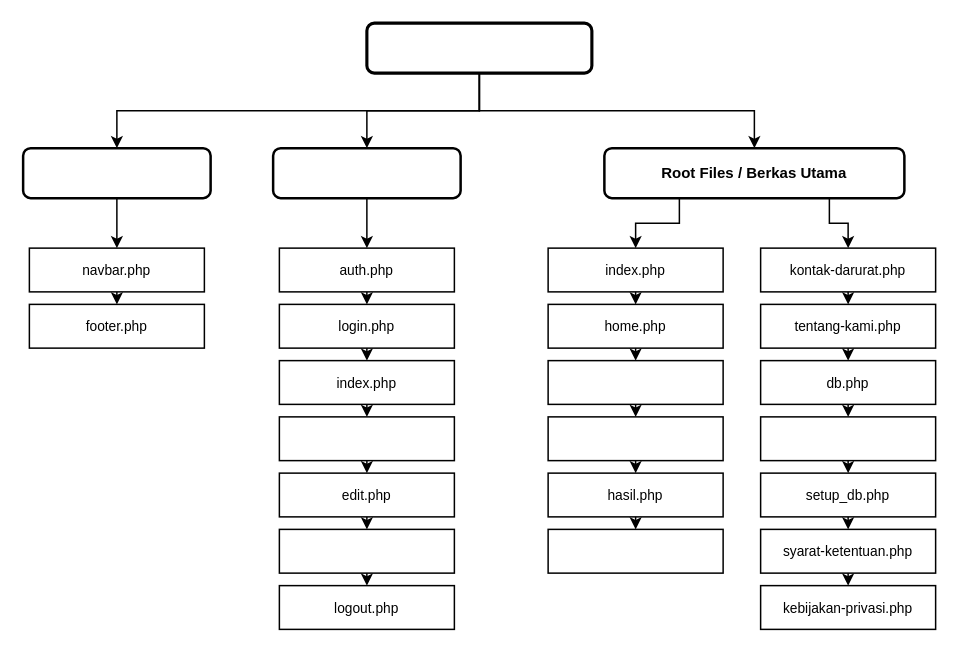
The diagram is 958 pixels wide and 651 high, and some of its shapes have lost their labels. Here are the shapes that lost their labels. From the top down, the box of each, then its label:
(365, 21, 593, 74): MentalHealth/
(21, 146, 211, 199): components/
(271, 146, 461, 199): admin/
(547, 359, 723, 404): tes-mandiri.php
(278, 416, 454, 461): tambah.php
(547, 416, 723, 461): tes.php
(759, 416, 936, 461): data_dass21.php
(278, 528, 454, 573): hapus.php
(547, 528, 723, 573): pusat-ketenangan.php
